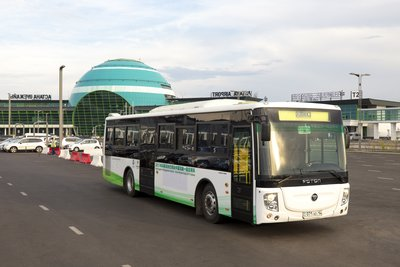bus: (102, 98, 350, 224)
